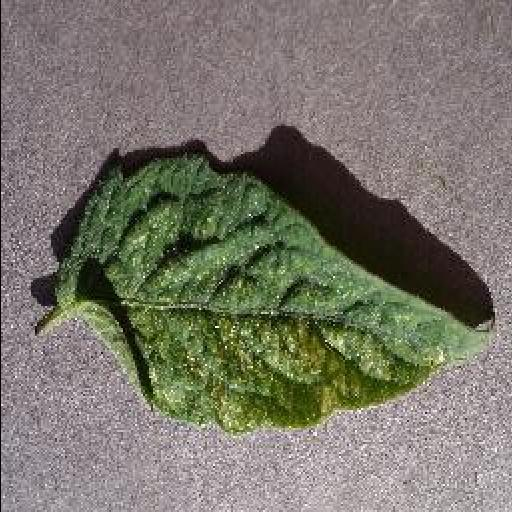disease_tomato: (52, 155, 494, 436)
